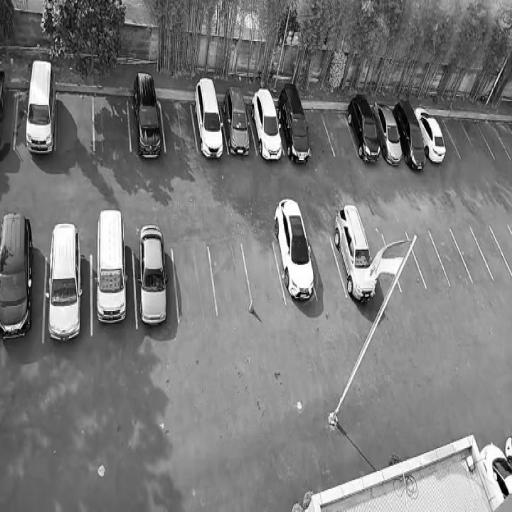Car: (326, 201, 385, 307), (270, 193, 320, 303), (43, 217, 85, 346), (90, 206, 130, 327), (136, 216, 170, 334), (0, 208, 30, 338), (188, 74, 228, 163), (24, 55, 58, 158), (130, 62, 164, 164), (274, 80, 313, 164), (246, 84, 286, 165), (343, 89, 385, 166), (391, 99, 432, 171), (218, 83, 255, 160), (370, 100, 406, 165), (477, 436, 512, 502), (413, 105, 451, 164)
Space Available: (172, 246, 217, 320), (208, 243, 253, 313), (241, 243, 285, 302), (382, 233, 425, 292), (406, 229, 449, 287), (429, 228, 472, 285), (307, 239, 345, 301), (58, 89, 93, 152), (92, 94, 131, 150), (450, 229, 492, 281), (159, 95, 196, 153), (366, 234, 401, 294), (471, 227, 511, 279), (320, 109, 357, 156), (303, 107, 335, 157), (459, 116, 494, 157), (476, 117, 510, 159), (443, 117, 477, 157), (490, 226, 512, 274), (434, 115, 459, 157), (490, 119, 512, 157)
